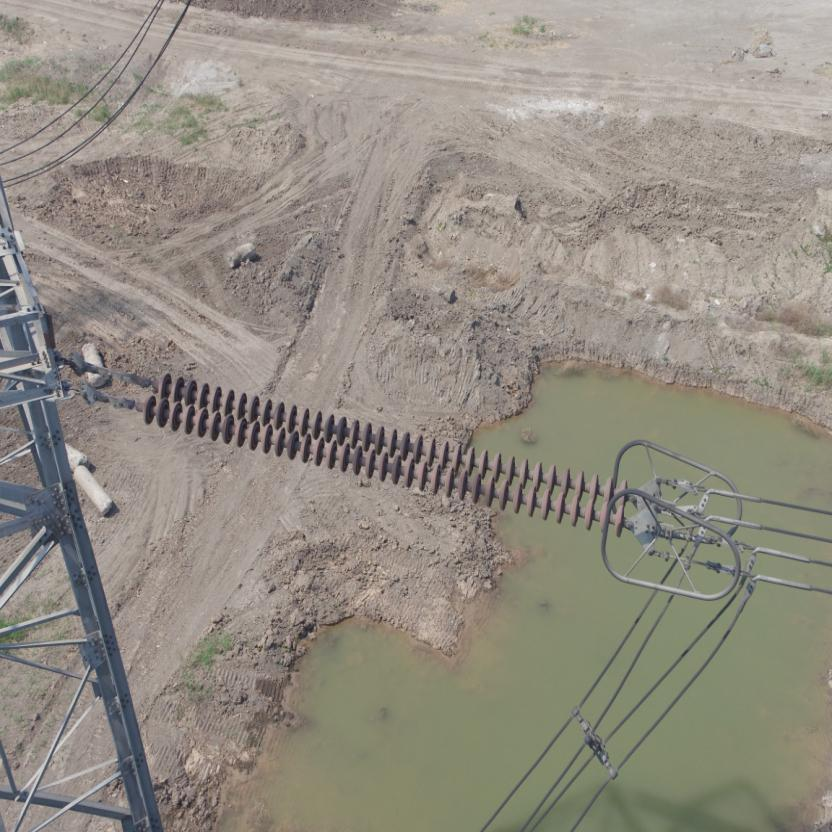insulator: (113, 368, 644, 539)
